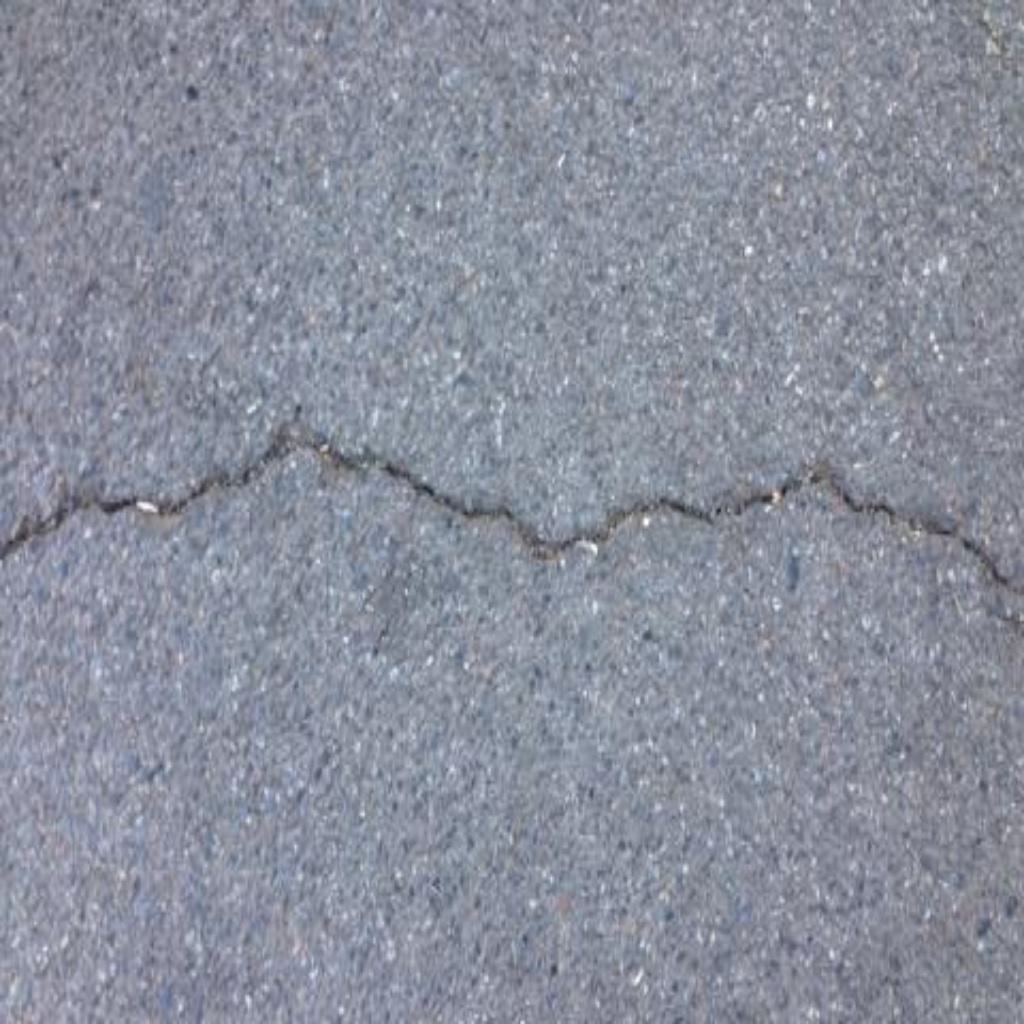Crack: (1, 418, 1024, 600)
